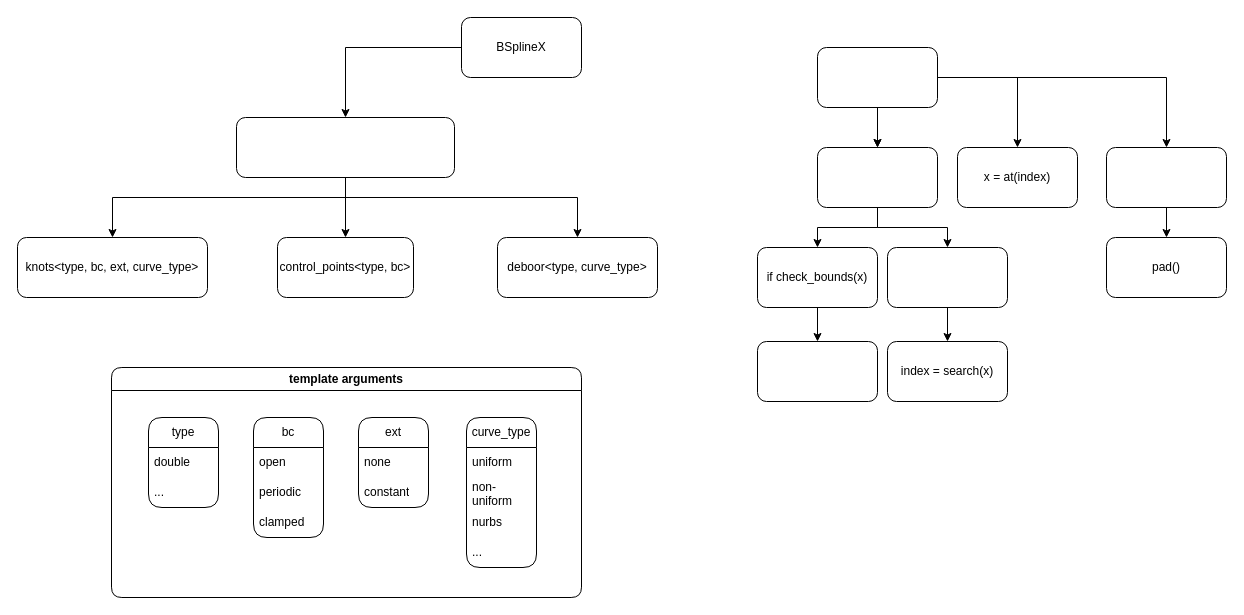
The diagram is 1244 pixels wide and 615 high, and some of its shapes have lost their labels. Here are the shapes that lost their labels. From the top down, the centre of each, then its label:
the point at 877,77: Knots
the point at 345,147: BSpline<type, bc, ext, curve_type>
the point at 877,177: index = find(x)
the point at 1166,177: Knots()
the point at 947,277: else
the point at 817,371: index = ext(x)
